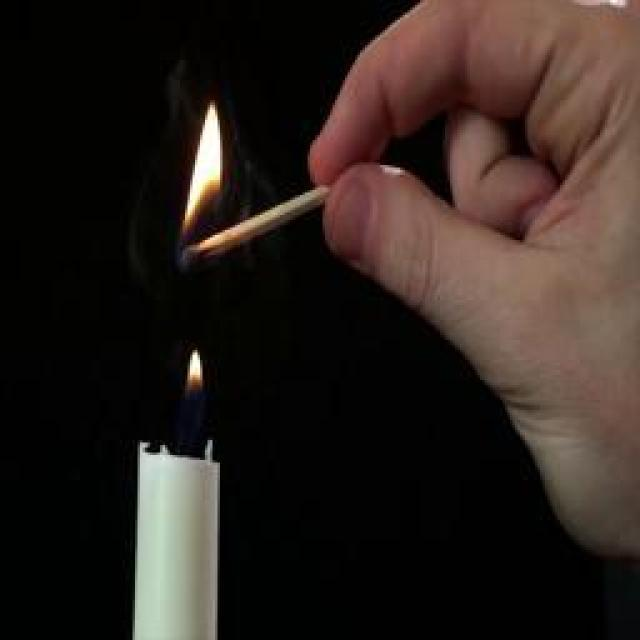Fire: (182, 105, 225, 233), (186, 350, 204, 390)
